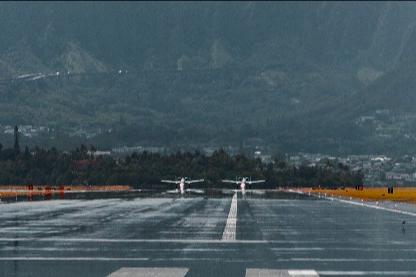A10: (222, 174, 264, 187), (160, 174, 204, 186)
